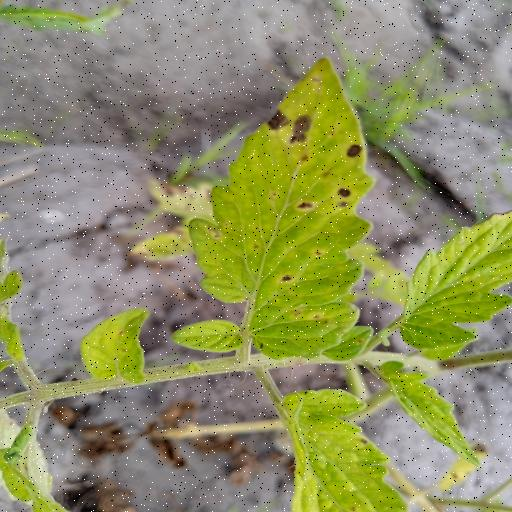Tomato_Brown_Spots: (181, 47, 382, 362)
